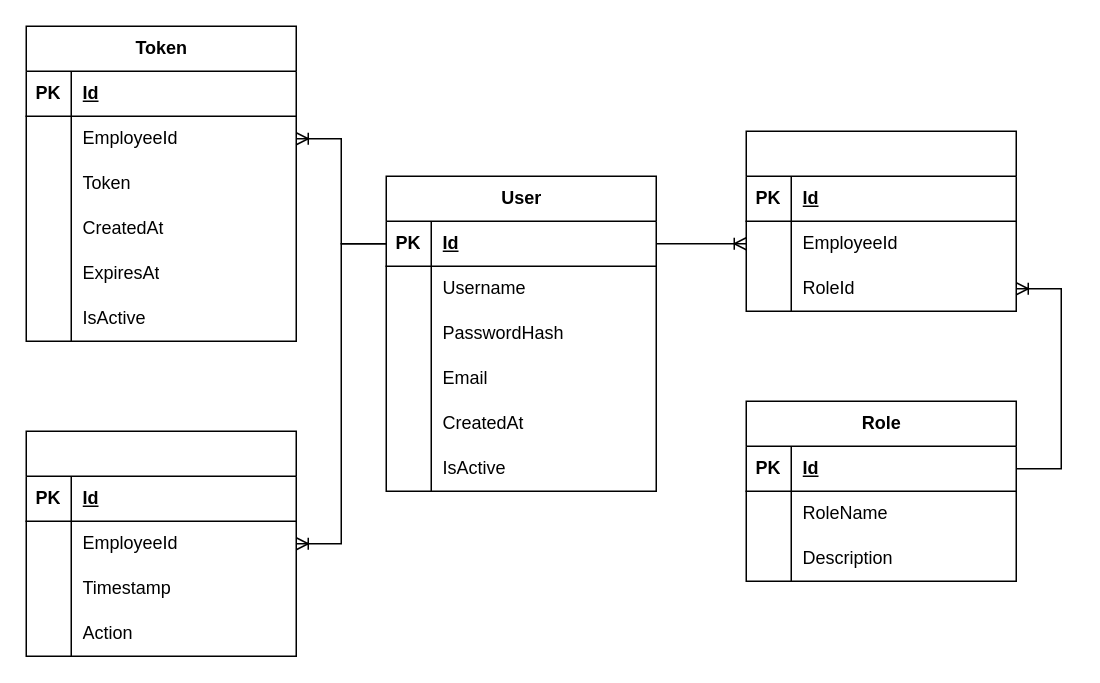
This 1100x683 diagram has some shape labels left out. Each missing label, with the box of its shape:
EmployeeInRole: (745, 130, 1016, 311)
Logs: (25, 430, 296, 656)
